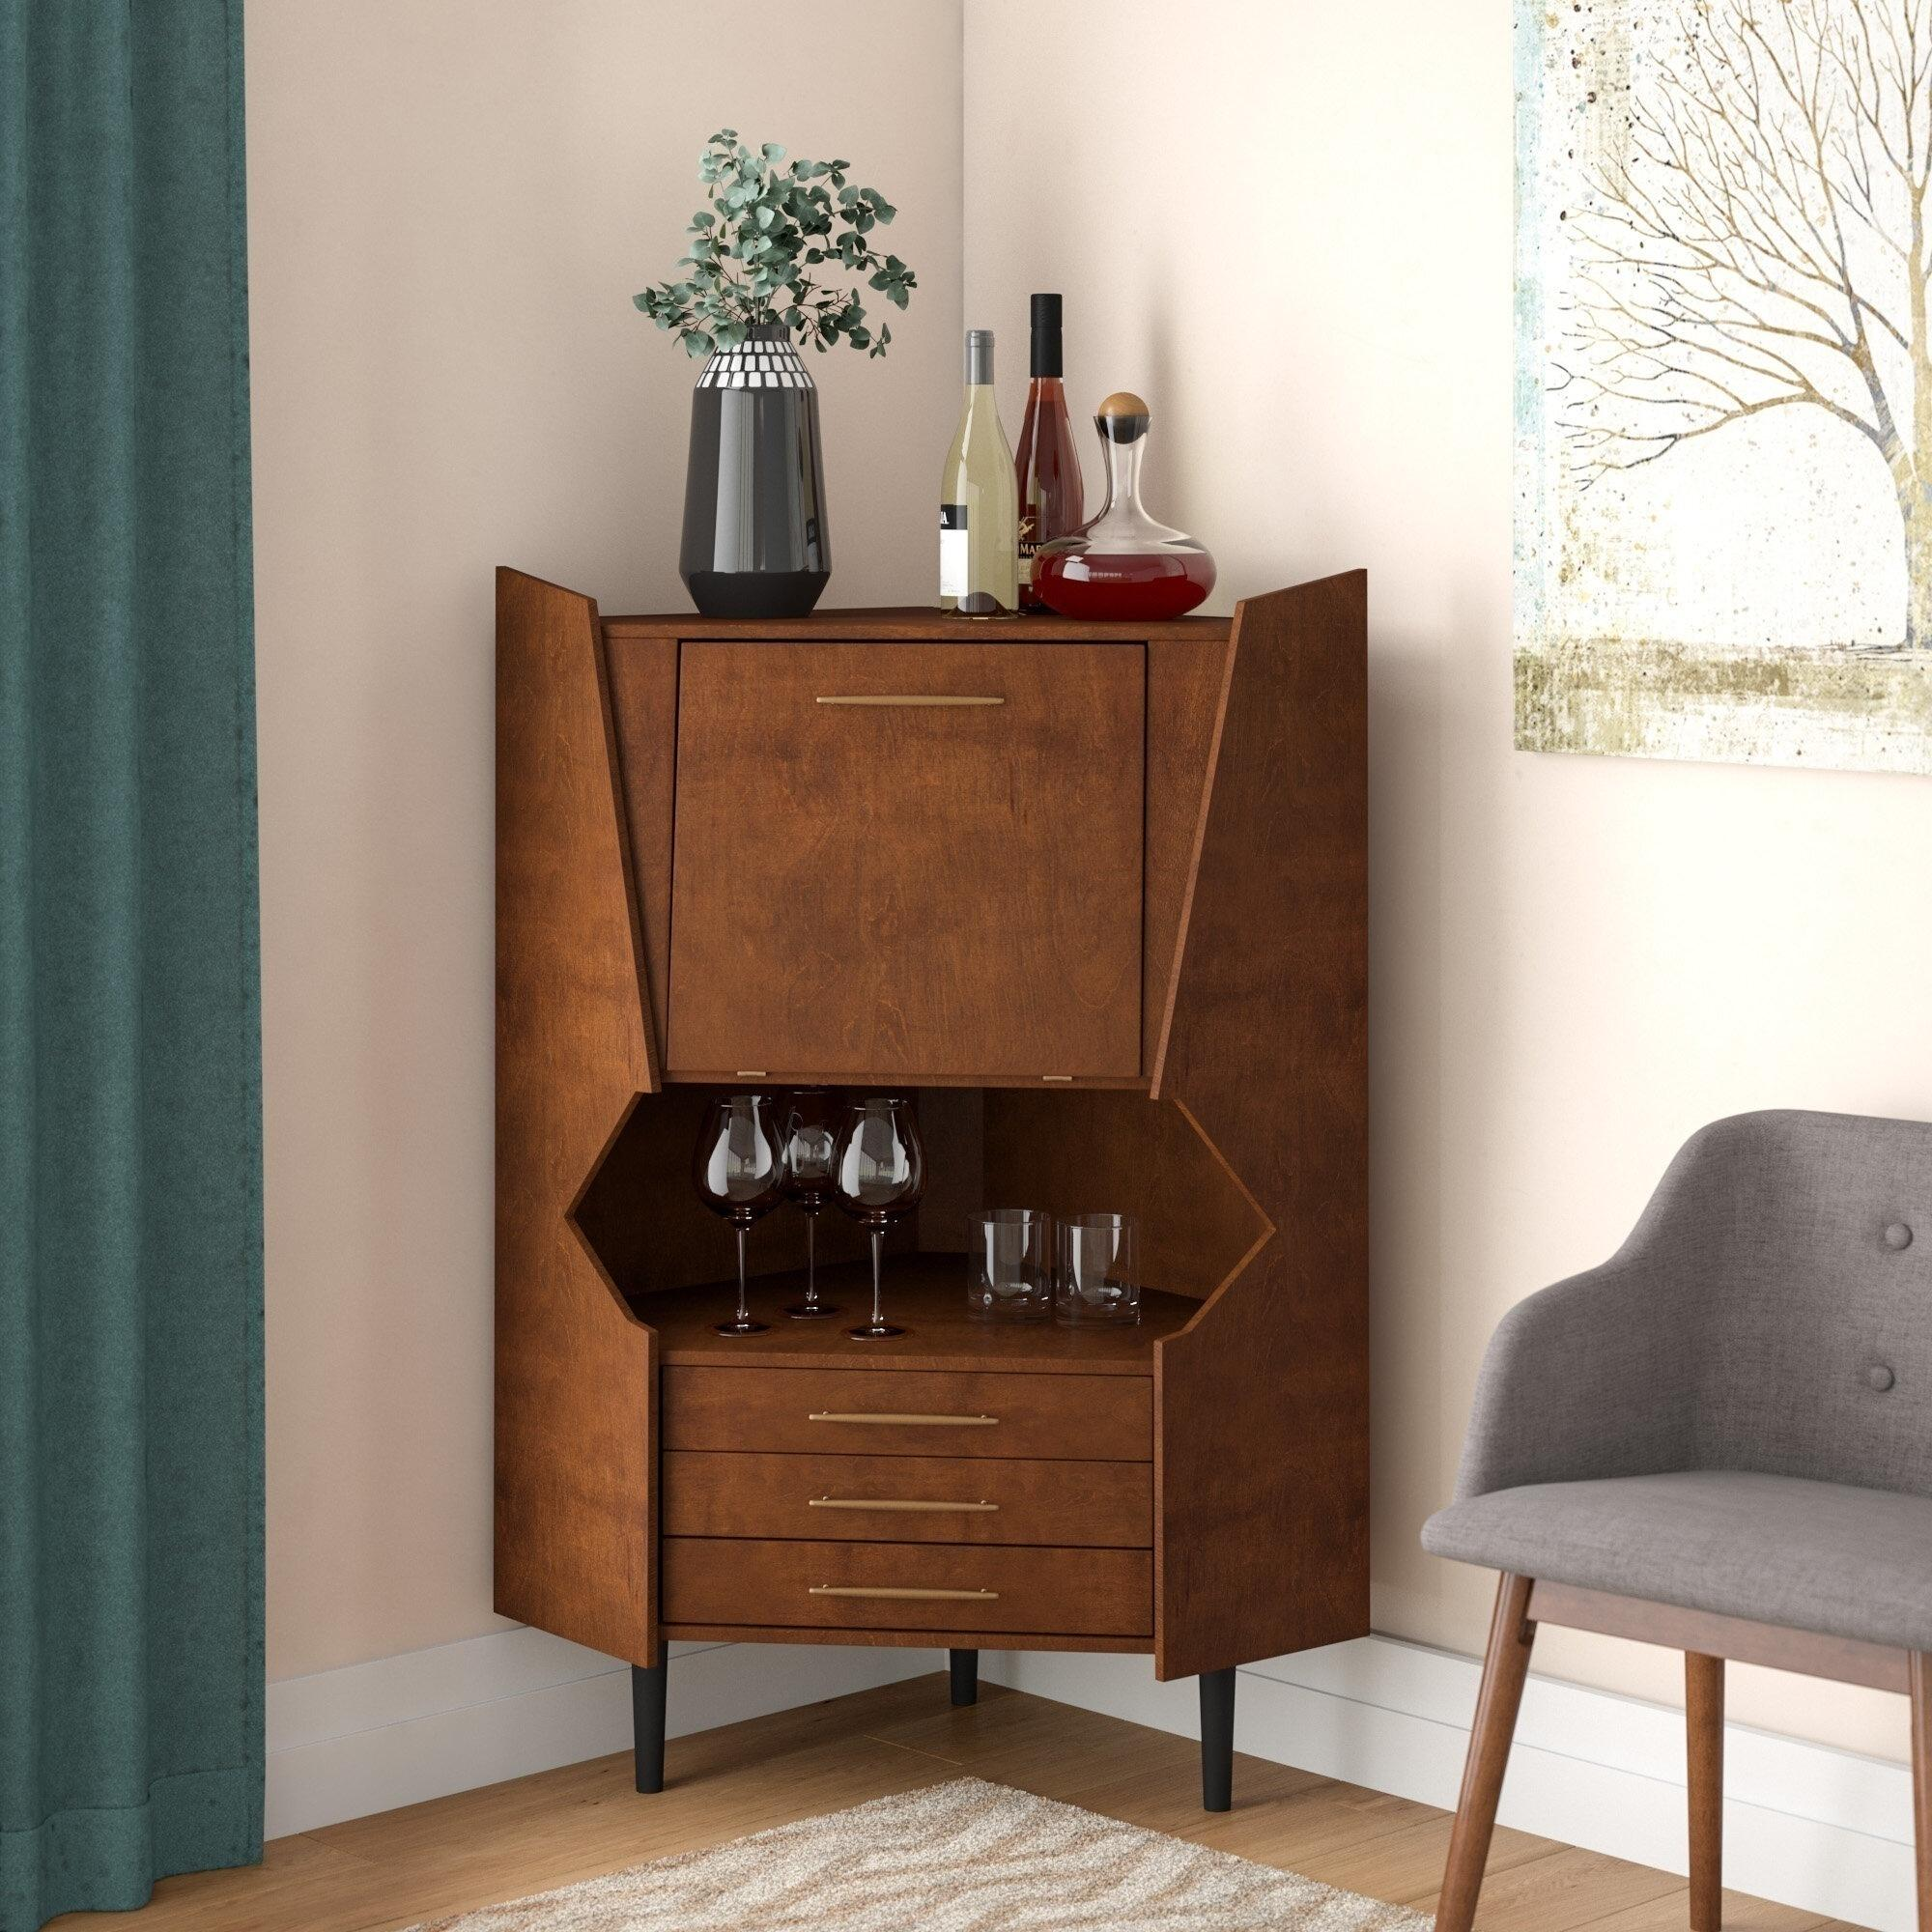cabinet_door: (676, 658, 1143, 1088), (660, 1539, 1152, 1631), (658, 1373, 1146, 1465), (658, 1458, 1146, 1543)
handle: (807, 1569, 1005, 1621), (814, 676, 1003, 724), (809, 1481, 1005, 1525), (810, 1396, 1001, 1437)
